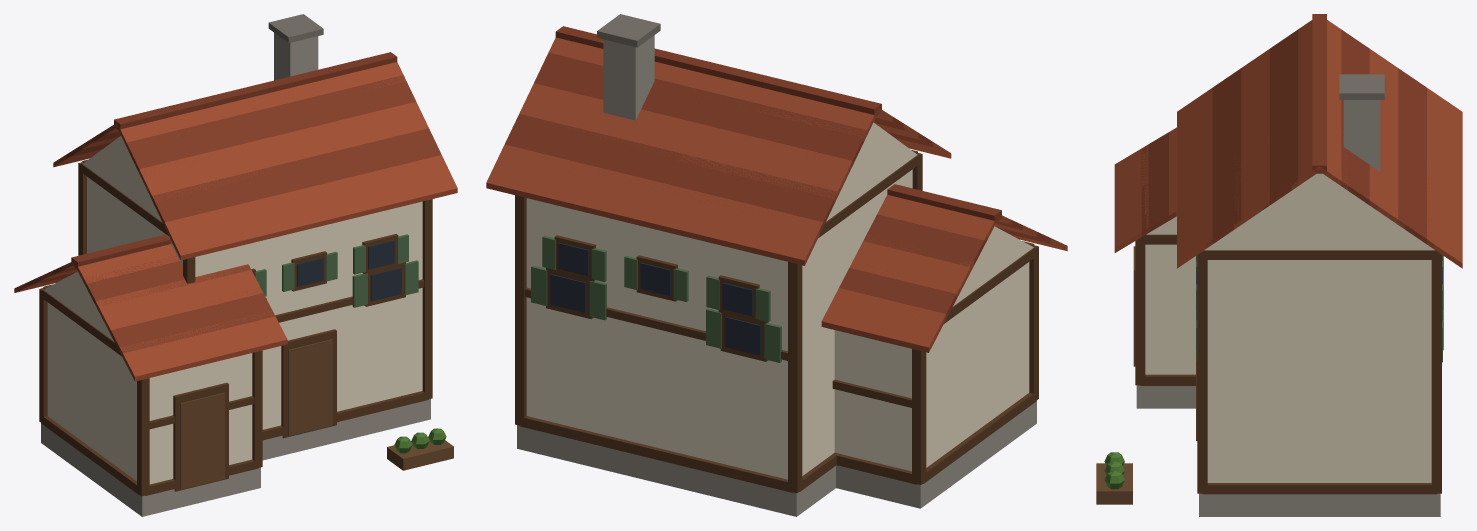
File: house_l3_3.glb
3 views of the same model, side by side, from view 1: azimuth 30°, elevation 25°; view 2: azimuth 150°, elevation 25°; view 3: azimuth 270°, elevation 25° (orthographic). The views are drawn at different scales.
Parts seen in each view (by area): view 1: house_l3_3; view 2: house_l3_3; view 3: house_l3_3.
Boxes of the visible parts, x1,y1,x2,y2 form: house_l3_3: (14, 14, 457, 516); house_l3_3: (486, 14, 1067, 516); house_l3_3: (1096, 14, 1462, 516).
Bounding box in the file's own units: 6.2 × 6.01 × 5.
